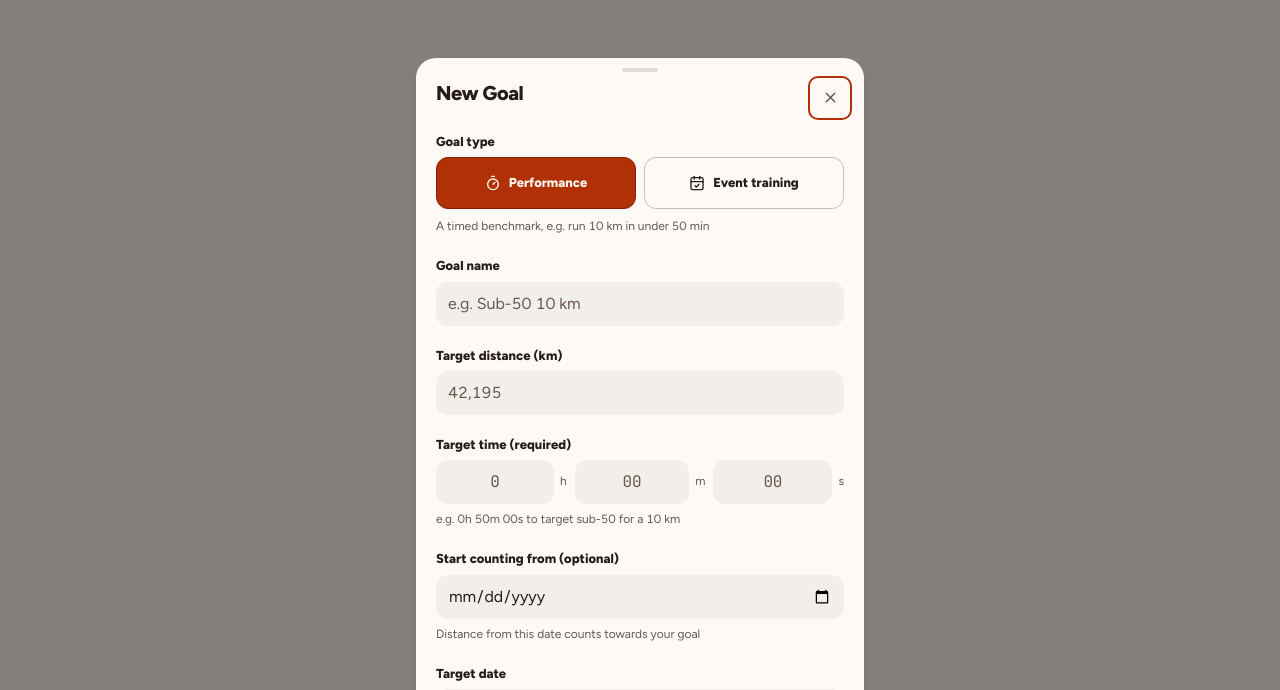
Test: GoalEditor — goal type selector › reshapes the form rather than only recording a preference
The image size is (1280, 690).
Expected: the field labelled "Goal name" is shown, 436,282 -> 844,326
Click the button "Event training". click: (744, 183)
box: 644,157 -> 844,209
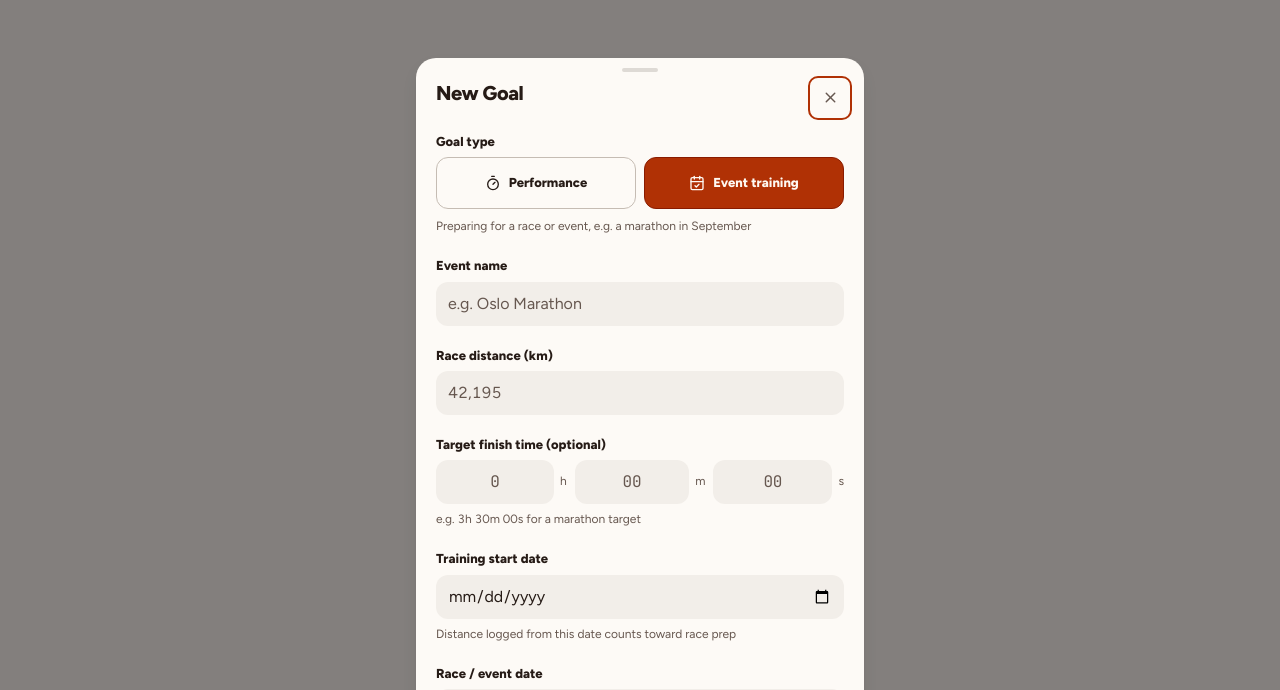
Expected: the field labelled "Event name" is shown, 436,282 -> 844,326
Now the label labelled "Goal name" is gone
